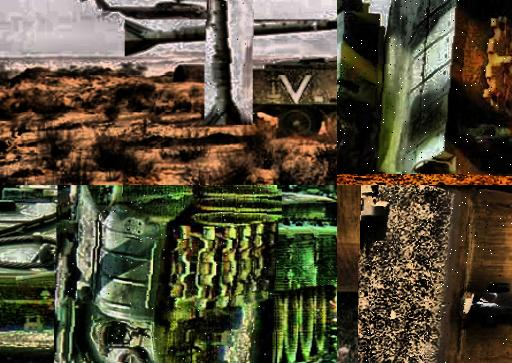tanks: (56, 186, 282, 363), (338, 1, 512, 177), (360, 186, 512, 363), (217, 60, 338, 135), (206, 1, 248, 126)
